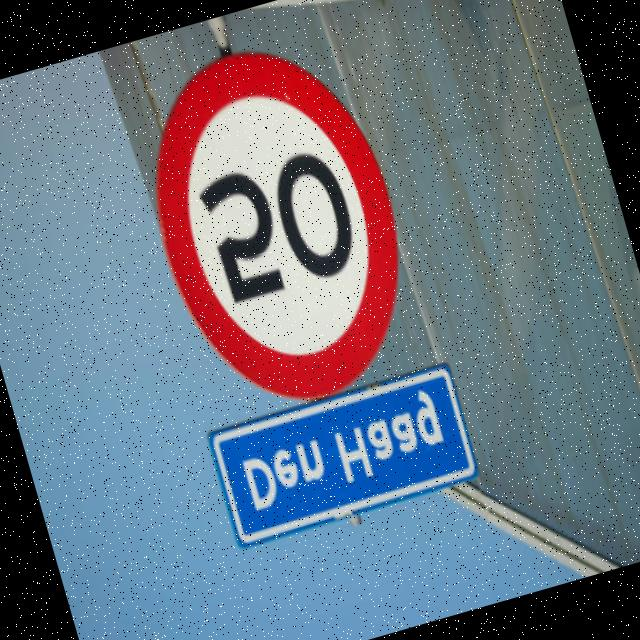speed_limit_50: (111, 19, 438, 434)
